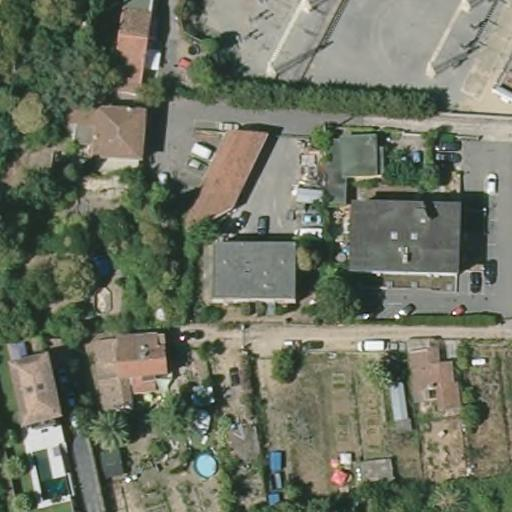pool: (191, 449, 224, 483)
